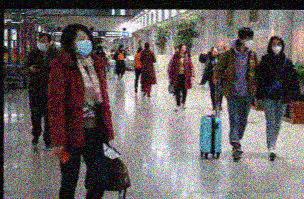with_mask: (73, 32, 93, 56), (35, 36, 49, 50), (270, 38, 282, 53), (244, 35, 254, 48)
without_mask: (210, 47, 218, 55), (179, 44, 187, 51)
